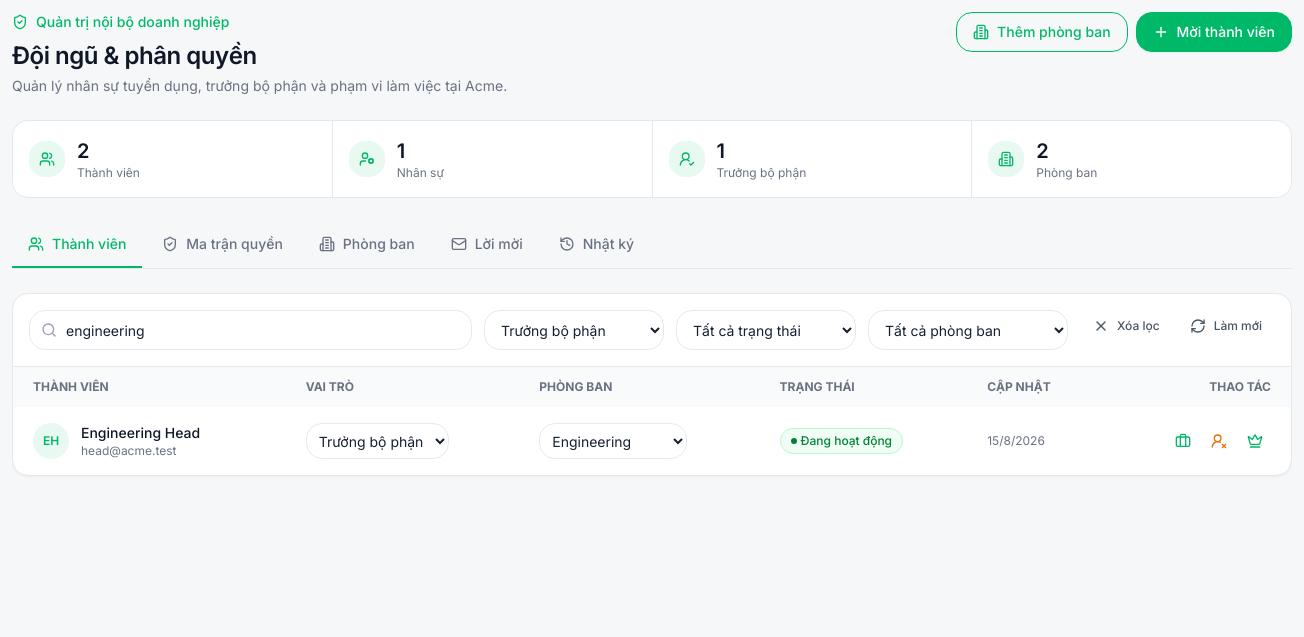
EmployerTeamPage › restores URL filters and exposes the immutable activity timeline
Expected: the dropdown named "Lọc theo vai trò" shows "Trưởng bộ phận", [484,310,664,350]
Expected: the field named "Tìm thành viên" holds "engineering", [29,310,472,350]
Step 1. Click the tab "Nhật ký" → {"x": 596, "y": 245}, box [543,222,650,268]
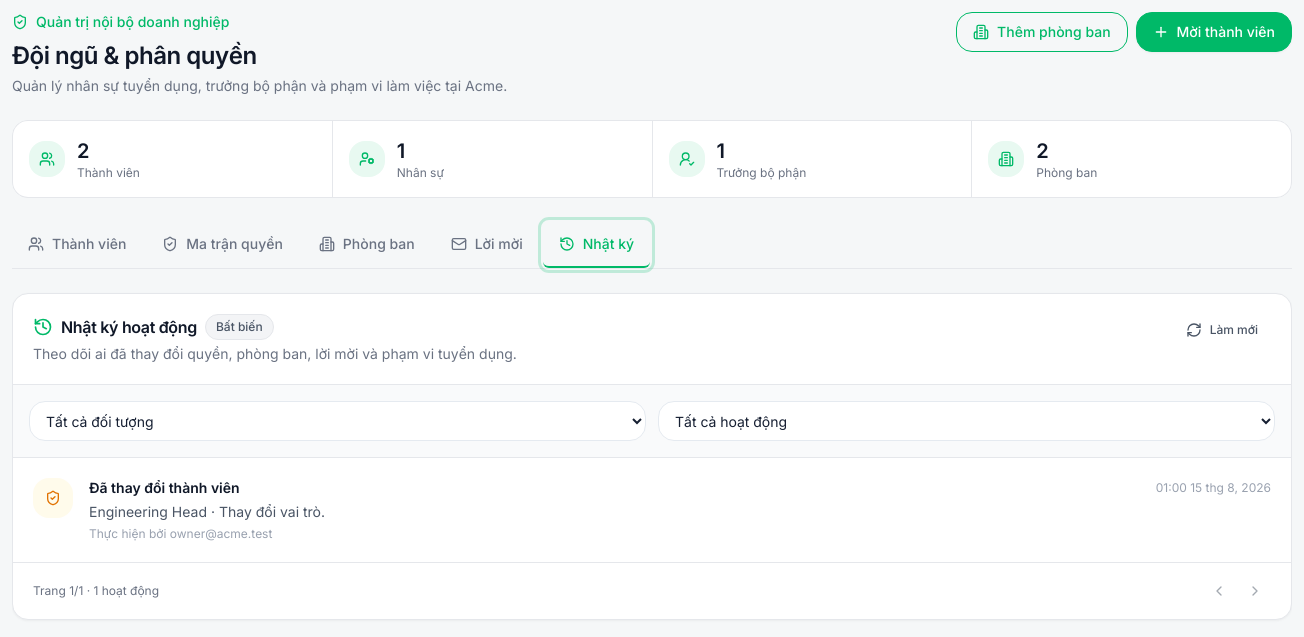
Result: the heading "Nhật ký hoạt động" is shown at [61,315,197,339]
Result: the text "Đã thay đổi thành viên" is shown at [89,478,240,498]
Result: the text "Engineering Head · Thay đổi vai trò." is shown at [89,503,325,520]
